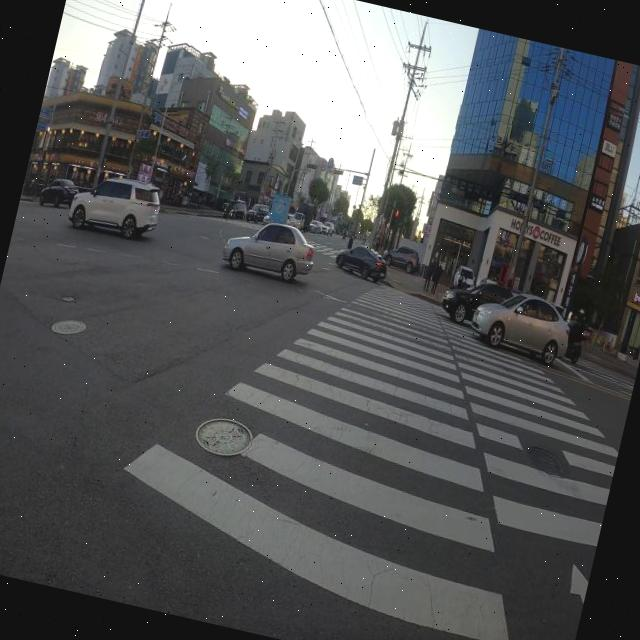crosswalk: (109, 279, 616, 640), (202, 213, 342, 259)
